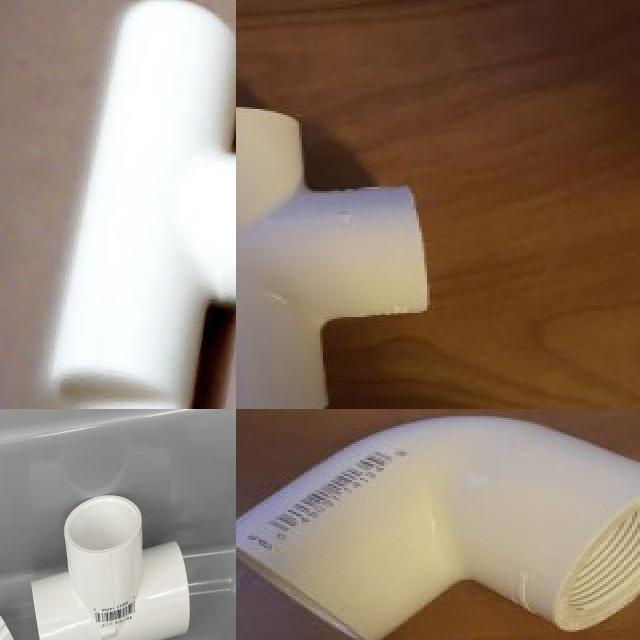L Joint: (236, 416, 640, 640)
T Joint: (44, 0, 236, 409), (236, 109, 429, 409), (30, 495, 190, 640)
